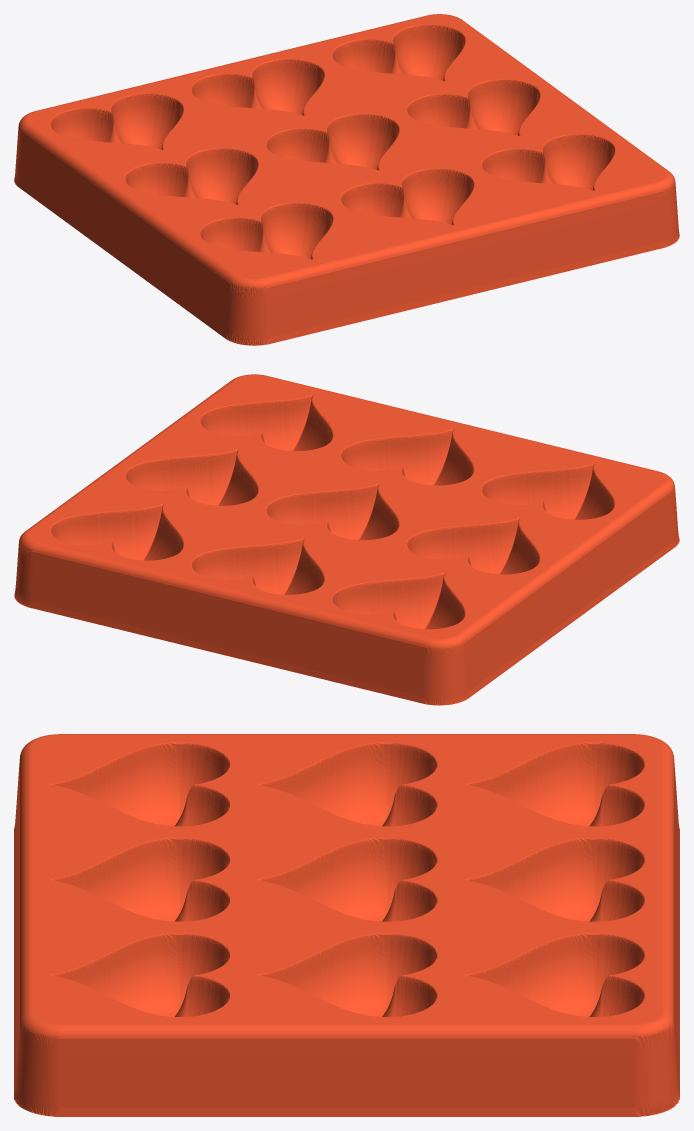
File: mold.glb
The picture shows the model from 3 angles, top to bottom: view 1: azimuth 30°, elevation 25°; view 2: azimuth 150°, elevation 25°; view 3: azimuth 270°, elevation 25°; orthographic projection. The views are drawn at different scales.
Visible parts, largest first — view 1: geometry_0; view 2: geometry_0; view 3: geometry_0.
Part boxes in pixels (left/top/right/bottom): geometry_0: left=14, top=14, right=679, bottom=345; geometry_0: left=14, top=374, right=679, bottom=705; geometry_0: left=14, top=734, right=679, bottom=1116.
Bounding box in the file's own units: 0.1402 × 0.0182 × 0.1295.
